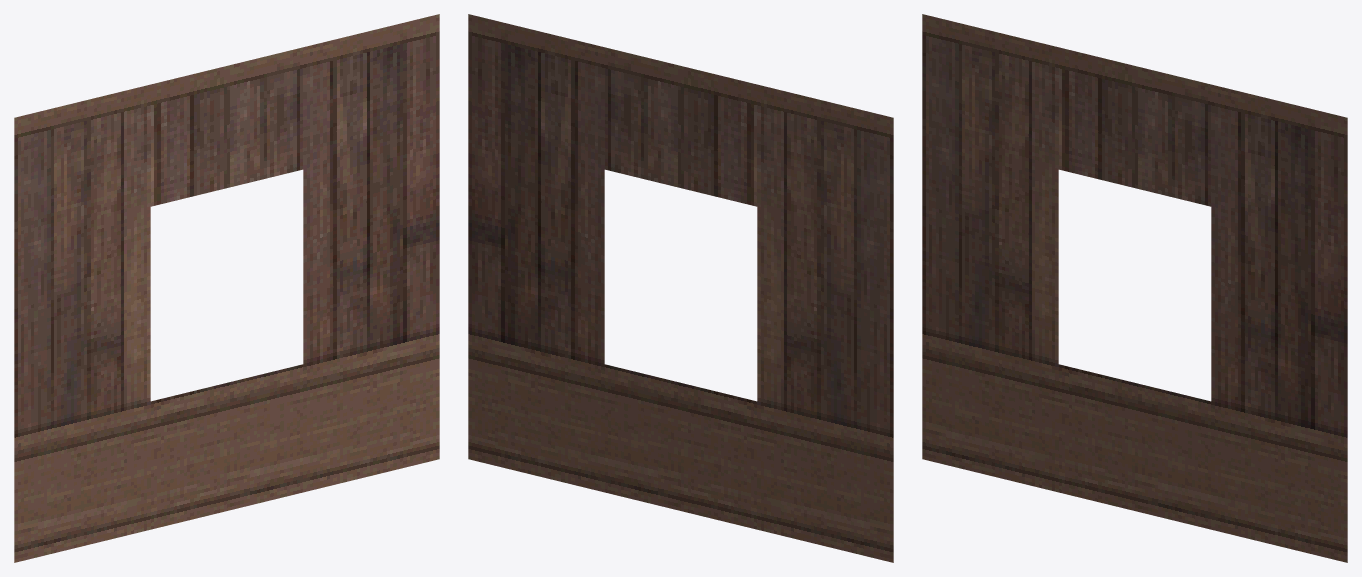
Rendered from wallWindowWood.glb.
3 renders of one model, left to right at view 1: azimuth 30°, elevation 25°; view 2: azimuth 150°, elevation 25°; view 3: azimuth 330°, elevation 25°, orthographic.
Visible parts, largest first — view 1: wallWindowWood; view 2: wallWindowWood; view 3: wallWindowWood.
Boxes of the visible parts, x1=… form: wallWindowWood: x1=14, y1=14, x2=439, y2=562; wallWindowWood: x1=468, y1=14, x2=893, y2=562; wallWindowWood: x1=922, y1=14, x2=1347, y2=562.
Size of the model in its own units: 4 by 4 by 1.19e-07.
Materials: 1 (1 with a texture image).
